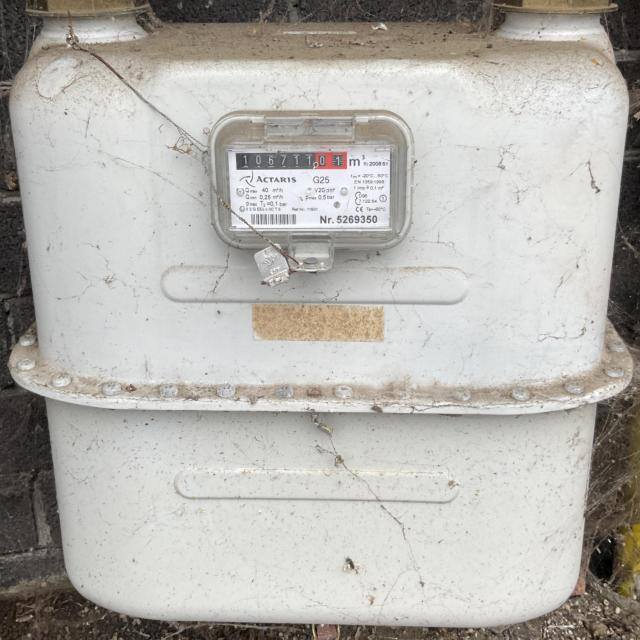gaz_meter: (216, 116, 405, 240)
indication: (234, 149, 349, 172)
